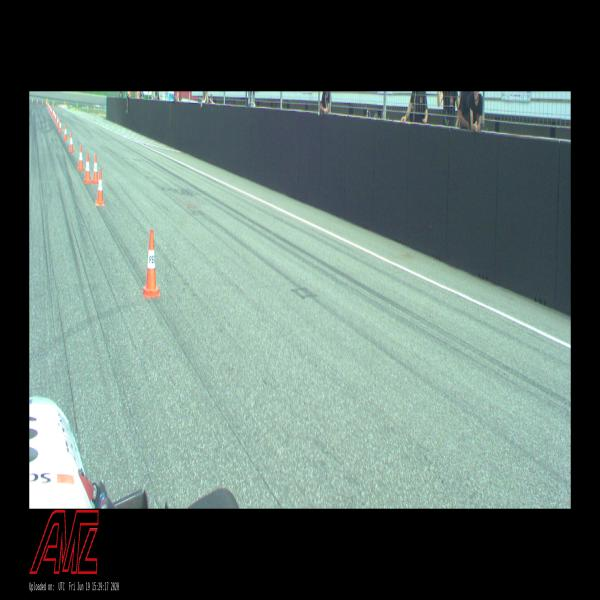orange_cone: (142, 230, 160, 297), (95, 169, 105, 205), (84, 154, 91, 183), (92, 154, 99, 183), (77, 145, 84, 170), (69, 133, 74, 152), (64, 125, 68, 140), (59, 120, 62, 132), (57, 116, 59, 127)
